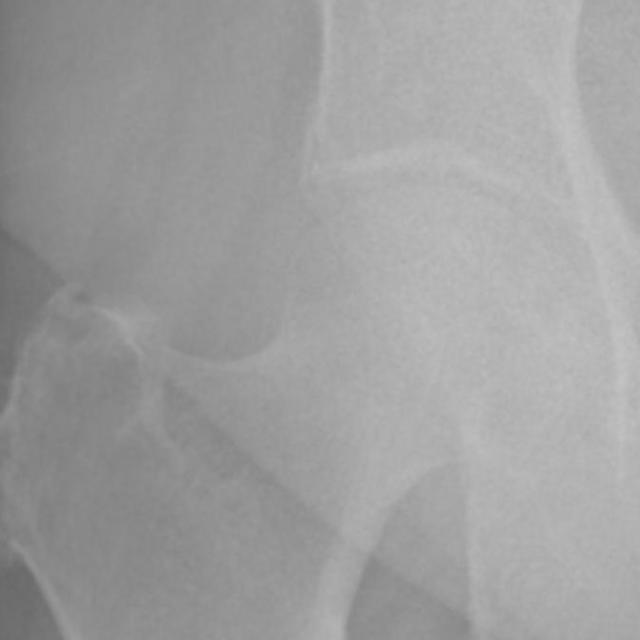Fitted_femural_head: (317, 178, 432, 317)
